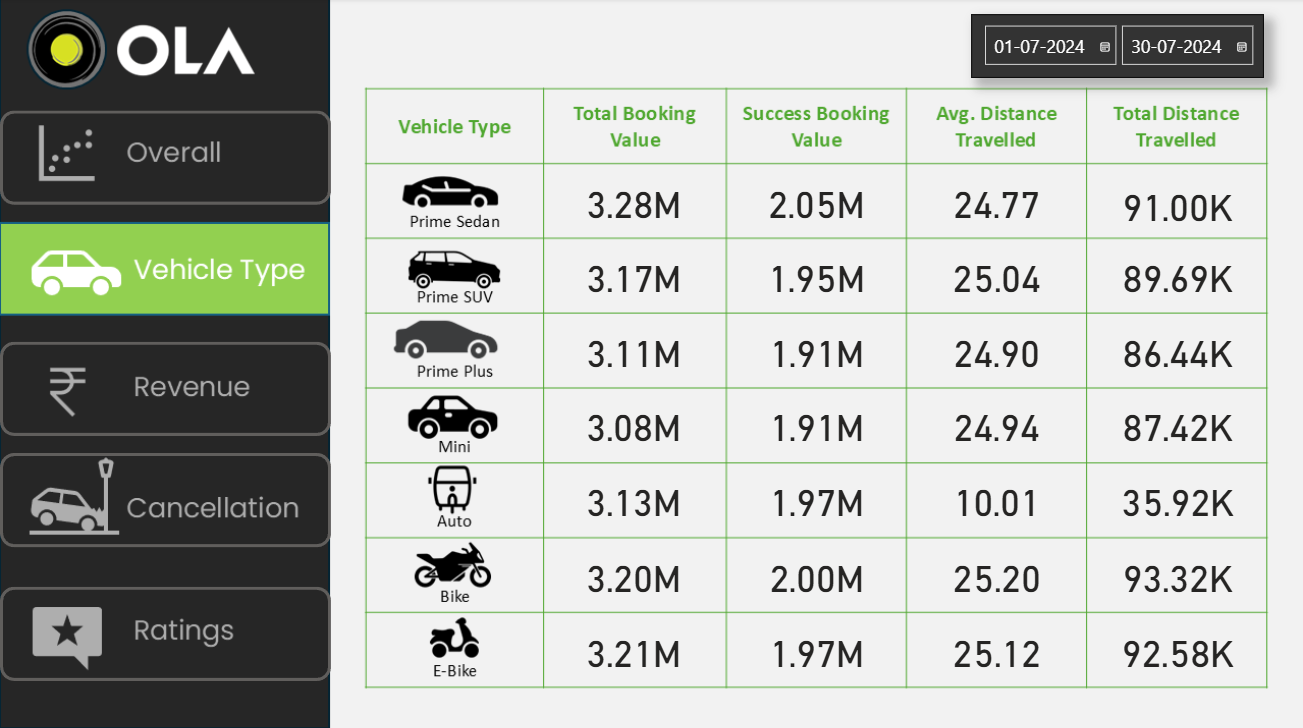

This screenshot's page, from the dashboard's own definition file:
{"tool":"powerbi","page":{"name":"Vehicle Type","canvas":[1280,720],"ordinal":1},"visuals":[{"type":"actionButton","box":[0,110,325,92.5],"z":0},{"type":"actionButton","box":[0,337.5,325,92.5],"z":1000},{"type":"actionButton","box":[0,446.2,325,92.5],"z":2000},{"type":"actionButton","box":[0,577.5,325,92.5],"z":3000},{"type":"card","fields":{"Values":["Sum(Bookings.Booking_Value)"]},"box":[538.8,171.2,167.5,57.5],"z":4000},{"type":"card","fields":{"Values":["Sum(Bookings.Booking_Value)"]},"box":[538.8,243.8,167.5,57.5],"z":5000},{"type":"card","fields":{"Values":["Sum(Bookings.Booking_Value)"]},"box":[538.8,317.5,167.5,57.5],"z":6000},{"type":"card","fields":{"Values":["Sum(Bookings.Booking_Value)"]},"box":[550,390,145,57.5],"z":7000},{"type":"card","fields":{"Values":["Sum(Bookings.Booking_Value)"]},"box":[550,463.8,145,57.5],"z":8000},{"type":"card","fields":{"Values":["Sum(Bookings.Booking_Value)"]},"box":[550,538.8,145,57.5],"z":9000},{"type":"card","fields":{"Values":["Sum(Bookings.Booking_Value)"]},"box":[550,612.5,145,57.5],"z":10000},{"type":"card","fields":{"Values":["Sum(Bookings.Booking_Value)"]},"box":[717.5,171.2,167.5,57.5],"z":11000},{"type":"card","fields":{"Values":["Sum(Bookings.Booking_Value)"]},"box":[707.5,243.8,187.5,57.5],"z":12000},{"type":"card","fields":{"Values":["Sum(Bookings.Booking_Value)"]},"box":[707.5,317.5,187.5,57.5],"z":13000},{"type":"card","fields":{"Values":["Sum(Bookings.Booking_Value)"]},"box":[707.5,390,187.5,57.5],"z":14000},{"type":"card","fields":{"Values":["Sum(Bookings.Booking_Value)"]},"box":[707.5,463.8,187.5,57.5],"z":15000},{"type":"card","fields":{"Values":["Sum(Bookings.Booking_Value)"]},"box":[707.5,538.8,187.5,57.5],"z":16000},{"type":"card","fields":{"Values":["Sum(Bookings.Booking_Value)"]},"box":[707.5,612.5,187.5,57.5],"z":17000},{"type":"card","fields":{"Values":["Avg(Bookings.Ride_Distance)"]},"box":[895,171.2,167.5,57.5],"z":18000},{"type":"card","fields":{"Values":["Avg(Bookings.Ride_Distance)"]},"box":[885,243.8,187.5,57.5],"z":19000},{"type":"card","fields":{"Values":["Avg(Bookings.Ride_Distance)"]},"box":[885,317.5,187.5,57.5],"z":20000},{"type":"card","fields":{"Values":["Avg(Bookings.Ride_Distance)"]},"box":[885,390,187.5,57.5],"z":21000},{"type":"card","fields":{"Values":["Avg(Bookings.Ride_Distance)"]},"box":[885,463.8,187.5,57.5],"z":22000},{"type":"card","fields":{"Values":["Avg(Bookings.Ride_Distance)"]},"box":[885,538.8,187.5,57.5],"z":23000},{"type":"card","fields":{"Values":["Avg(Bookings.Ride_Distance)"]},"box":[885,612.5,187.5,57.5],"z":24000},{"type":"card","fields":{"Values":["Sum(Bookings.Ride_Distance)"]},"box":[1072.5,173.8,167.5,57.5],"z":25000},{"type":"card","fields":{"Values":["Sum(Bookings.Ride_Distance)"]},"box":[1062.5,243.8,187.5,57.5],"z":26000},{"type":"card","fields":{"Values":["Sum(Bookings.Ride_Distance)"]},"box":[1062.5,317.5,187.5,57.5],"z":27000},{"type":"card","fields":{"Values":["Sum(Bookings.Ride_Distance)"]},"box":[1062.5,390,187.5,57.5],"z":28000},{"type":"card","fields":{"Values":["Sum(Bookings.Ride_Distance)"]},"box":[1062.5,463.8,187.5,57.5],"z":29000},{"type":"card","fields":{"Values":["Sum(Bookings.Ride_Distance)"]},"box":[1062.5,538.8,187.5,57.5],"z":30000},{"type":"card","fields":{"Values":["Sum(Bookings.Ride_Distance)"]},"box":[1062.5,612.5,187.5,57.5],"z":31000},{"type":"slicer","title":"Date","fields":{"Values":["Bookings.Date"]},"box":[953.4,16,287.1,62.6],"z":32000}]}

Visuals, with their boxes on the page's 1280x720 design canvas (x1, y1, x2, y2). These are canvas units, not pixel positions in the 1303x728 screenshot, which may show the page scaled, cropped or inside an application window:
actionButton: left=0, top=110, right=325, bottom=202
actionButton: left=0, top=338, right=325, bottom=430
actionButton: left=0, top=446, right=325, bottom=539
actionButton: left=0, top=578, right=325, bottom=670
card - Sum(Bookings.Booking_Value): left=539, top=171, right=706, bottom=229
card - Sum(Bookings.Booking_Value): left=539, top=244, right=706, bottom=301
card - Sum(Bookings.Booking_Value): left=539, top=318, right=706, bottom=375
card - Sum(Bookings.Booking_Value): left=550, top=390, right=695, bottom=448
card - Sum(Bookings.Booking_Value): left=550, top=464, right=695, bottom=521
card - Sum(Bookings.Booking_Value): left=550, top=539, right=695, bottom=596
card - Sum(Bookings.Booking_Value): left=550, top=612, right=695, bottom=670
card - Sum(Bookings.Booking_Value): left=718, top=171, right=885, bottom=229
card - Sum(Bookings.Booking_Value): left=708, top=244, right=895, bottom=301
card - Sum(Bookings.Booking_Value): left=708, top=318, right=895, bottom=375
card - Sum(Bookings.Booking_Value): left=708, top=390, right=895, bottom=448
card - Sum(Bookings.Booking_Value): left=708, top=464, right=895, bottom=521
card - Sum(Bookings.Booking_Value): left=708, top=539, right=895, bottom=596
card - Sum(Bookings.Booking_Value): left=708, top=612, right=895, bottom=670
card - Avg(Bookings.Ride_Distance): left=895, top=171, right=1062, bottom=229
card - Avg(Bookings.Ride_Distance): left=885, top=244, right=1072, bottom=301
card - Avg(Bookings.Ride_Distance): left=885, top=318, right=1072, bottom=375
card - Avg(Bookings.Ride_Distance): left=885, top=390, right=1072, bottom=448
card - Avg(Bookings.Ride_Distance): left=885, top=464, right=1072, bottom=521
card - Avg(Bookings.Ride_Distance): left=885, top=539, right=1072, bottom=596
card - Avg(Bookings.Ride_Distance): left=885, top=612, right=1072, bottom=670
card - Sum(Bookings.Ride_Distance): left=1072, top=174, right=1240, bottom=231
card - Sum(Bookings.Ride_Distance): left=1062, top=244, right=1250, bottom=301
card - Sum(Bookings.Ride_Distance): left=1062, top=318, right=1250, bottom=375
card - Sum(Bookings.Ride_Distance): left=1062, top=390, right=1250, bottom=448
card - Sum(Bookings.Ride_Distance): left=1062, top=464, right=1250, bottom=521
card - Sum(Bookings.Ride_Distance): left=1062, top=539, right=1250, bottom=596
card - Sum(Bookings.Ride_Distance): left=1062, top=612, right=1250, bottom=670
"Date" slicer: left=953, top=16, right=1240, bottom=79
